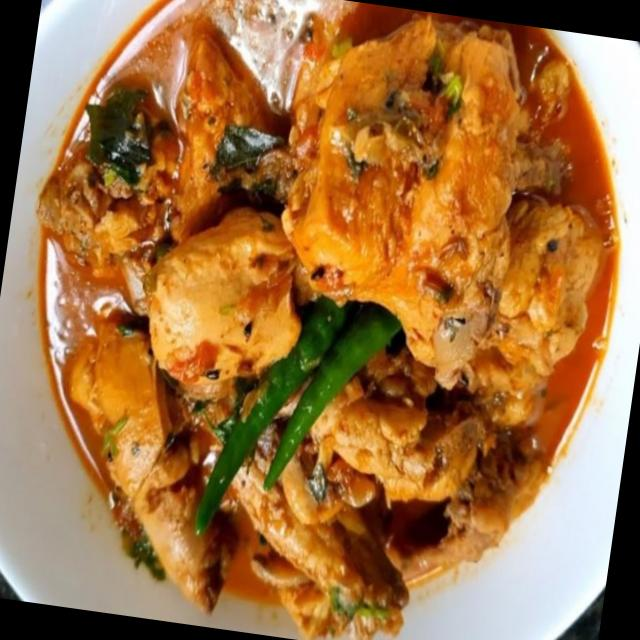chicken: (25, 0, 629, 615)
